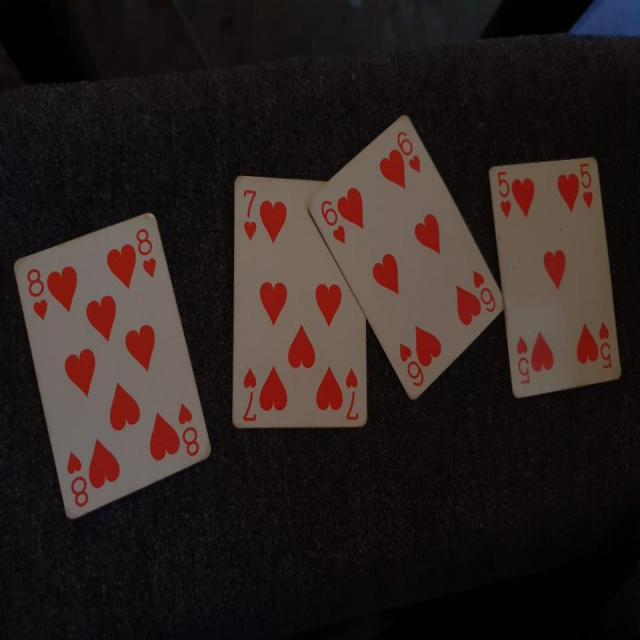5 Hearts: (488, 137, 622, 408)
6 Hearts: (305, 109, 509, 407)
7 Hearts: (226, 177, 373, 433)
8 Hearts: (9, 212, 236, 528)
